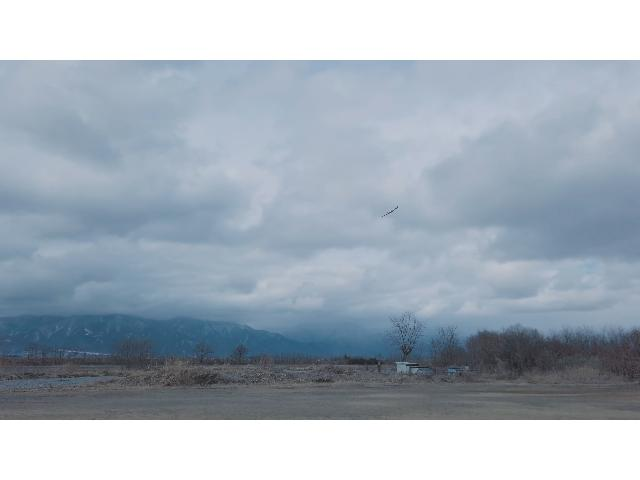Anti-Drone: (379, 204, 401, 220)
